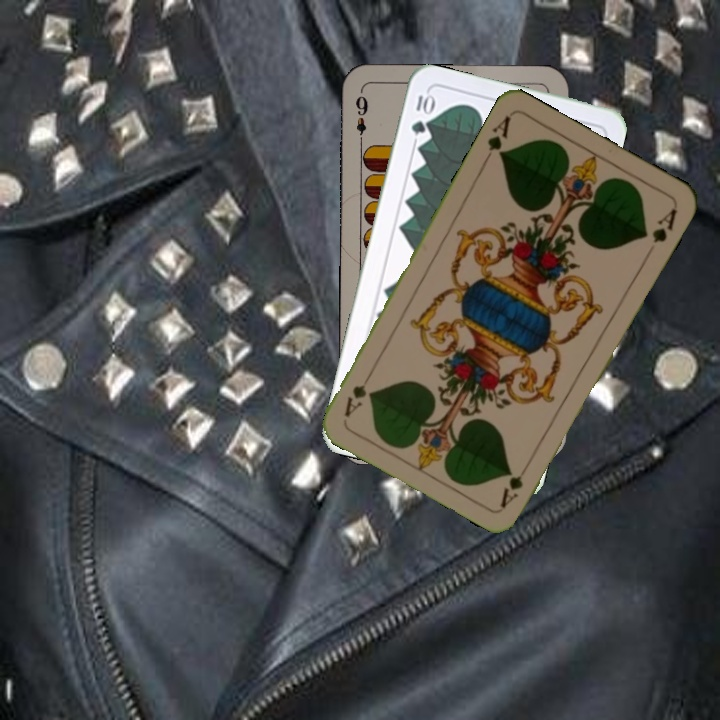E9: (352, 92, 371, 148)
G10: (407, 89, 435, 137)
GA: (496, 456, 534, 510), (479, 111, 514, 167)
